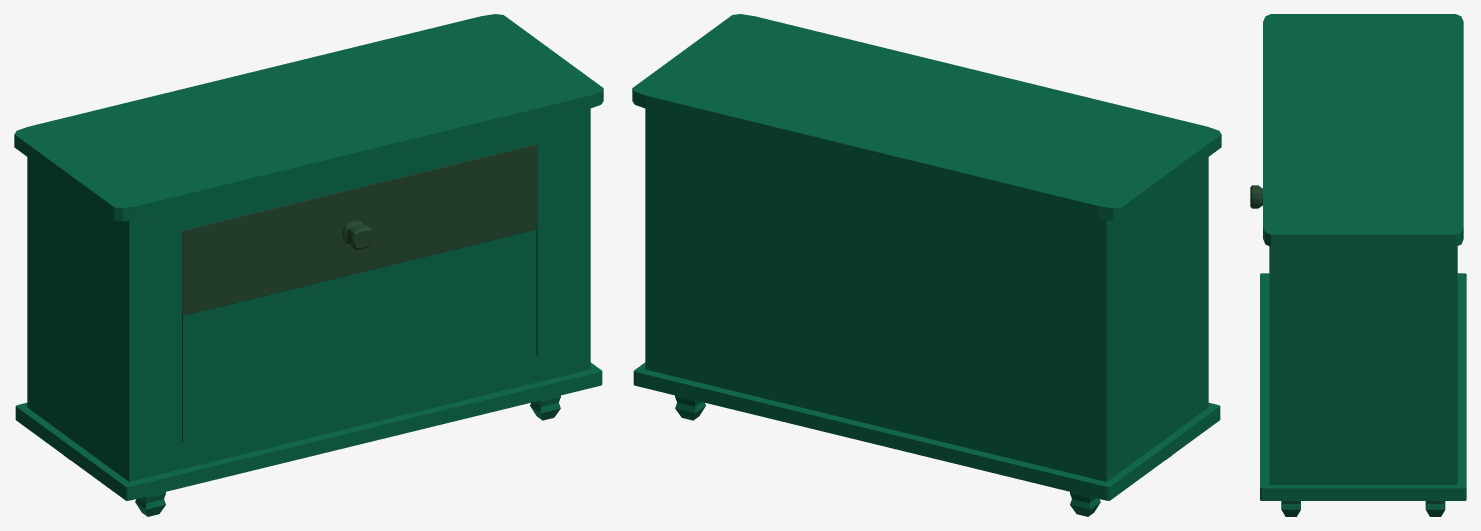
The model's file is Commode.fbx.
The picture shows the model from 3 angles, left to right: view 1: azimuth 30°, elevation 25°; view 2: azimuth 150°, elevation 25°; view 3: azimuth 270°, elevation 25°; orthographic projection. The views are drawn at different scales.
Parts seen in each view (by area): view 1: Commode; view 2: Commode; view 3: Commode.
Boxes of the visible parts, box(x1,y1,x2,y2) form: Commode: box(14, 14, 603, 516); Commode: box(632, 14, 1221, 516); Commode: box(1250, 14, 1466, 516).
Bounding box in the file's own units: 114 × 72.24 × 47.13.
